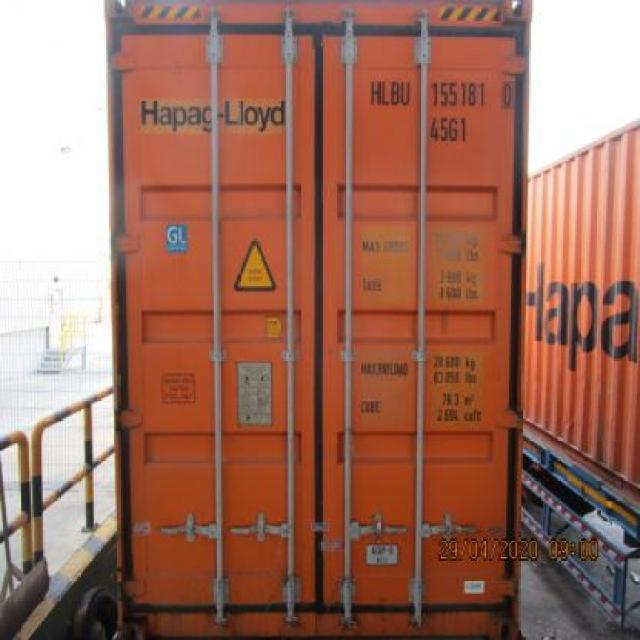ISO: (430, 115, 468, 142)
container_number: (372, 78, 517, 106)
